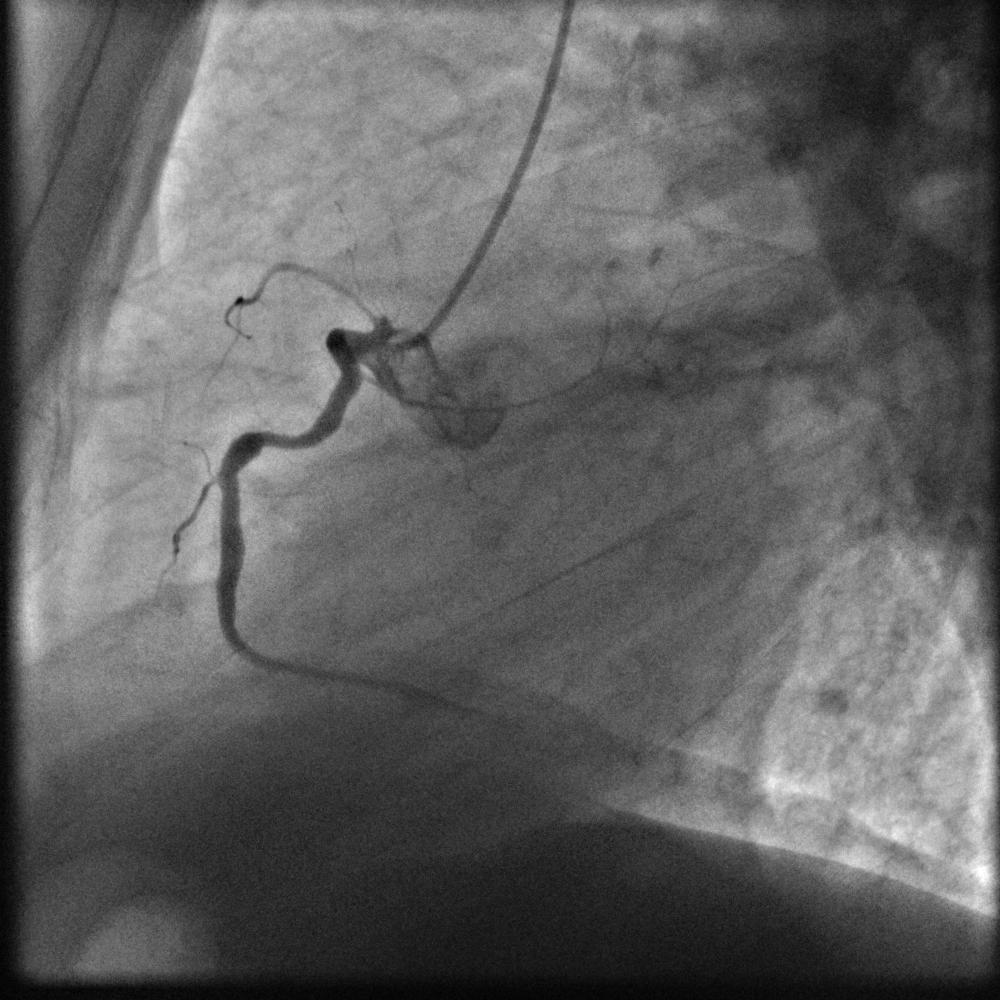Stenosis: (255, 428, 299, 452)
